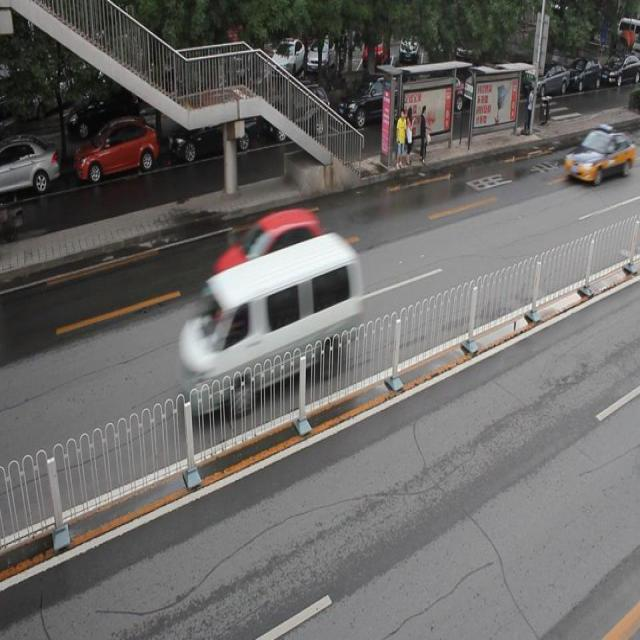car: (215, 207, 329, 293), (167, 102, 256, 160), (75, 119, 158, 180), (563, 122, 632, 185), (336, 71, 410, 128), (264, 85, 329, 139), (1, 136, 58, 197)
truck: (176, 229, 360, 422)
